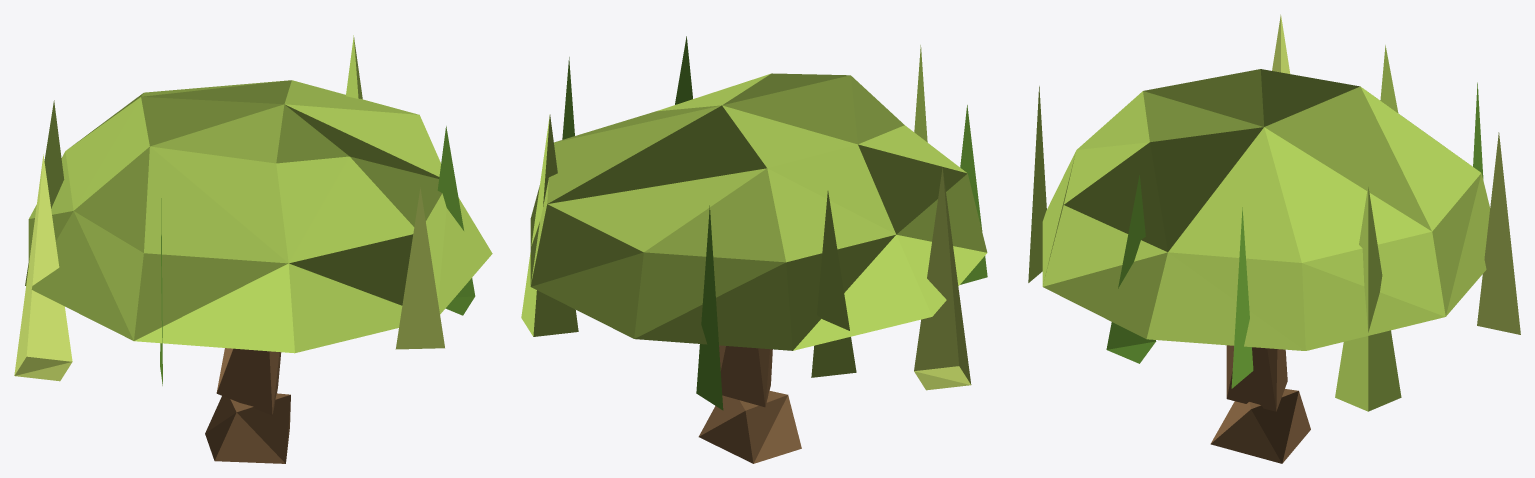
Rendered from tree_willow_2_lod1.glb.
3 renders of one model, left to right at view 1: azimuth 30°, elevation 25°; view 2: azimuth 150°, elevation 25°; view 3: azimuth 270°, elevation 25°, orthographic.
Visible parts, largest first — view 1: tree_willow_2_lod1; view 2: tree_willow_2_lod1; view 3: tree_willow_2_lod1.
Part boxes in pixels (left/top/right/bottom): tree_willow_2_lod1: left=14, top=35, right=492, bottom=463; tree_willow_2_lod1: left=521, top=36, right=987, bottom=463; tree_willow_2_lod1: left=1028, top=14, right=1520, bottom=463.
Bounding box in the file's own units: 6 × 4.32 × 5.94.
